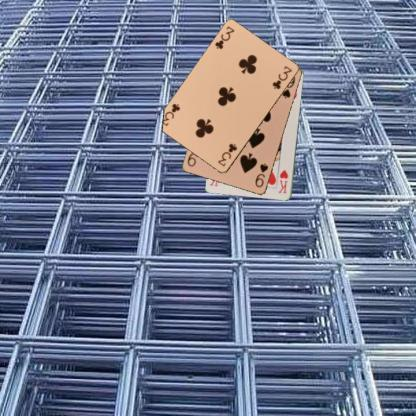3c: (212, 24, 235, 51), (216, 142, 238, 168)
9s: (252, 160, 270, 190)
Kh: (275, 167, 290, 195)
